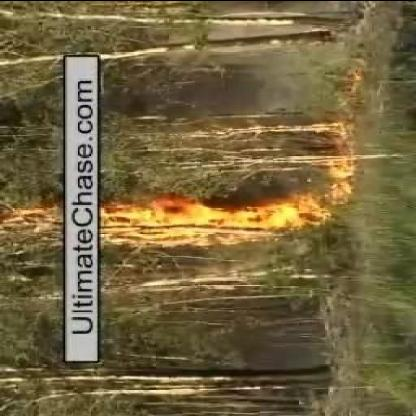foggia-v2-map80-epoch100 - v1 4323: (100, 201, 288, 243)
